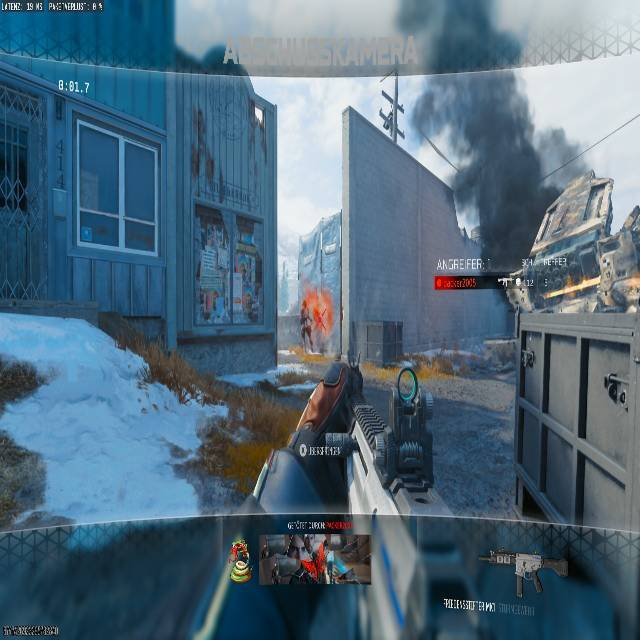player: (299, 288, 330, 356), (299, 299, 314, 350)
